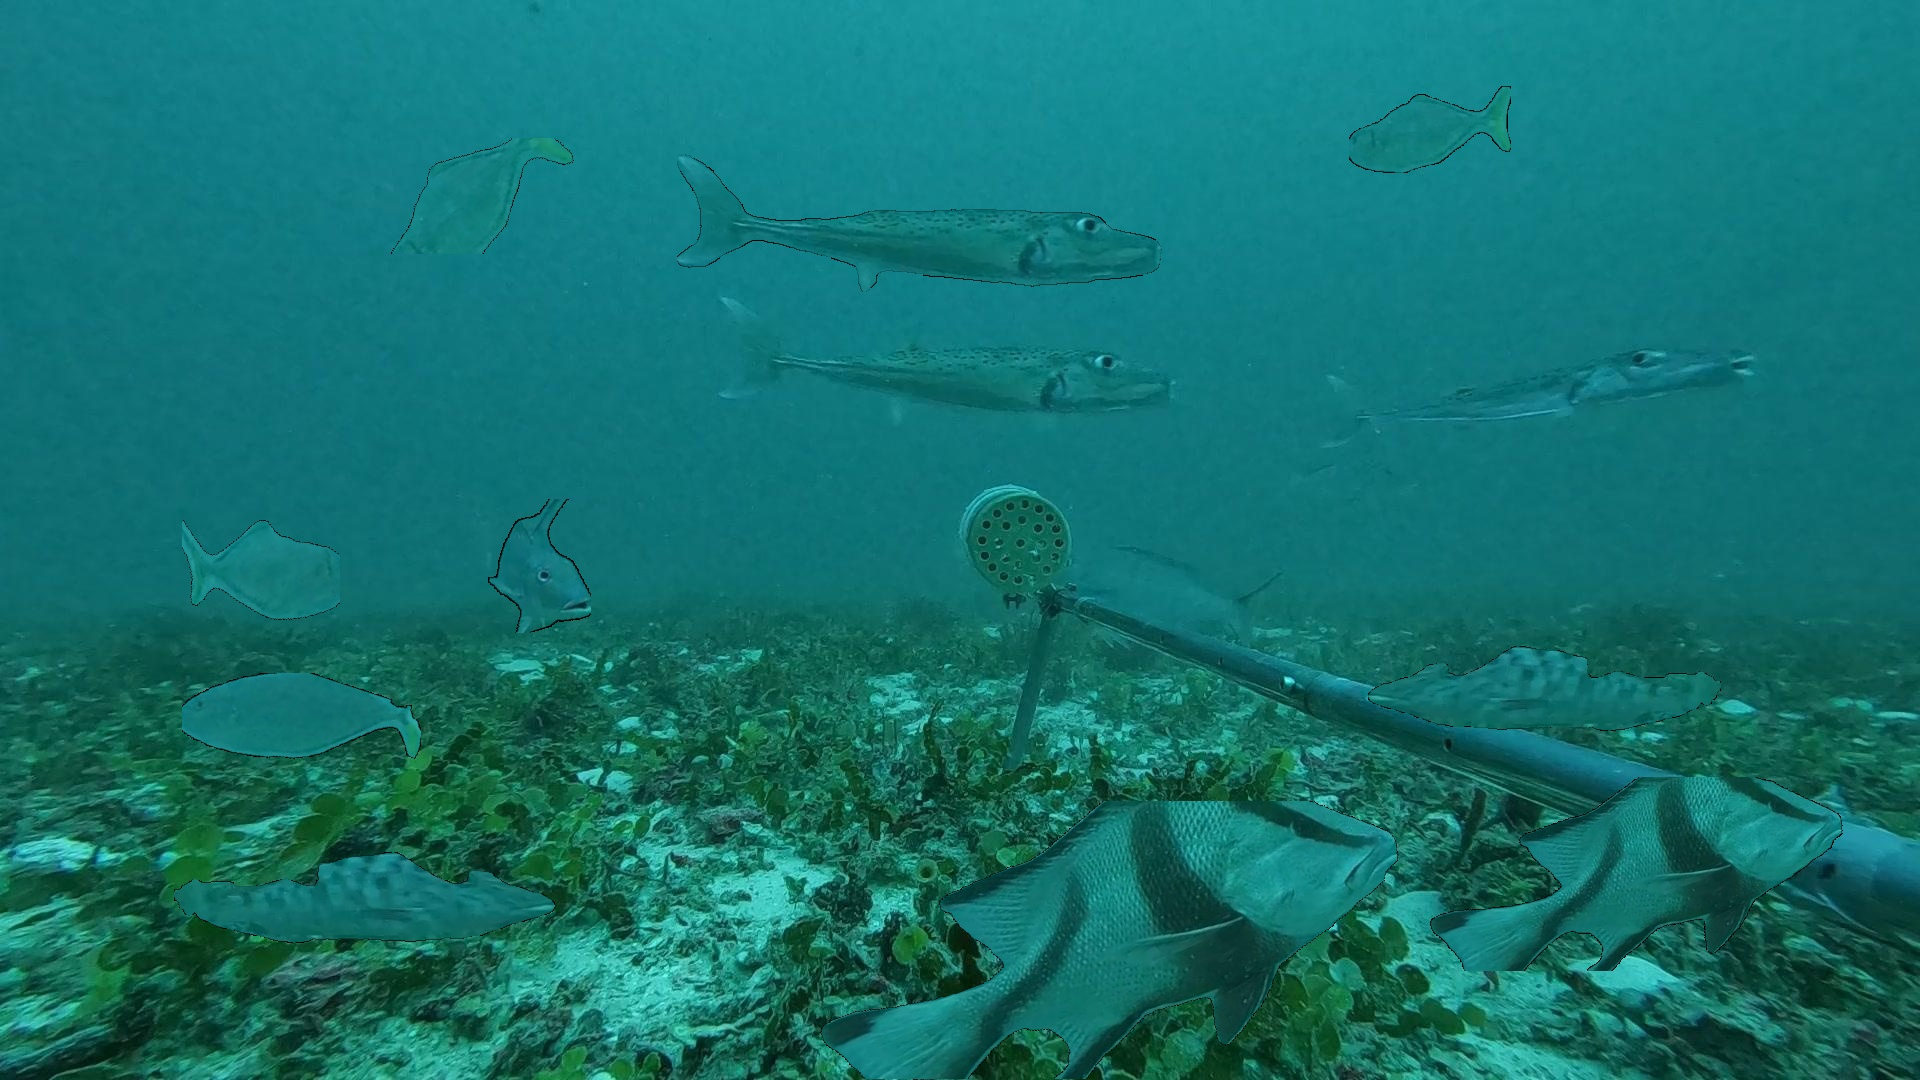fish: (807, 800, 1412, 1079), (691, 291, 1197, 465), (1303, 305, 1782, 480), (1425, 777, 1847, 971), (676, 154, 1162, 291), (174, 852, 555, 943), (1079, 522, 1288, 684), (1367, 646, 1721, 731), (364, 138, 578, 255), (182, 673, 421, 773), (182, 495, 340, 633), (1349, 86, 1511, 173), (487, 498, 591, 633)
